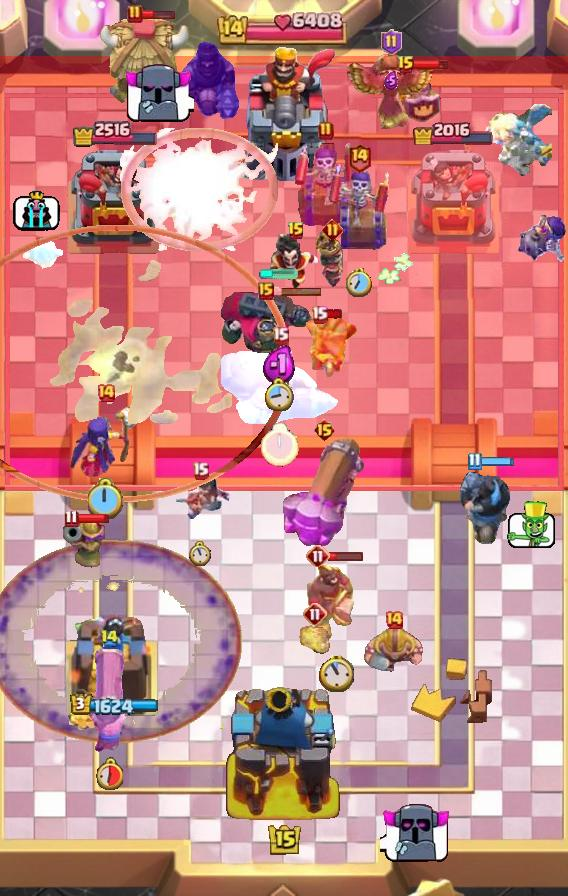axe: (68, 404, 144, 478)
barbarian-evolution: (120, 129, 278, 252)
bat: (21, 236, 63, 274)
battle-healer: (86, 649, 132, 753)
bomb-tower: (63, 515, 105, 583)
bomber-evolution: (314, 229, 350, 291)
clock: (217, 11, 351, 45)
electro-spirit: (262, 345, 298, 385), (384, 71, 398, 90)
elixir: (261, 423, 299, 467), (88, 478, 124, 519), (318, 654, 353, 692), (264, 377, 294, 411), (95, 757, 123, 790), (346, 267, 372, 296), (189, 541, 211, 567)
emote: (271, 287, 323, 298), (140, 8, 176, 20), (413, 59, 449, 71), (481, 456, 516, 468), (76, 512, 110, 524), (328, 551, 364, 562), (324, 308, 343, 320)
freeze: (307, 561, 365, 647)
furnace: (279, 436, 369, 550)
goblin-ball: (514, 214, 568, 264)
goblin-barrel: (301, 316, 359, 378)
goblin-giant: (363, 625, 425, 673)
golden-knight: (343, 53, 439, 131)
ice-spirit: (259, 268, 299, 280)
ice-spirit-evolution: (297, 625, 333, 657)
inferno-dragon: (180, 32, 242, 120), (457, 467, 513, 547)
inferno-tower: (219, 288, 339, 370)
king-tower: (223, 680, 345, 826), (230, 45, 338, 181)
lumberjack: (267, 234, 325, 298)
mini-pekka: (482, 100, 552, 182)
prince: (99, 16, 193, 106)
princess: (394, 65, 442, 125)
queen-tower: (62, 613, 165, 731), (64, 146, 164, 256), (403, 146, 503, 256)
rocket: (0, 540, 242, 744)
royal-ghost: (0, 225, 288, 503)
selected: (70, 120, 157, 149), (413, 119, 496, 145), (69, 692, 158, 715)
skeleton: (122, 62, 194, 126), (380, 800, 452, 864), (505, 501, 557, 551), (12, 189, 59, 231)
skeleton-dragon: (169, 474, 231, 526)
skeleton-king-bar: (328, 161, 390, 253), (295, 140, 357, 226)
text: (348, 142, 373, 173), (306, 544, 330, 568), (303, 602, 327, 626), (313, 418, 336, 442), (382, 29, 403, 55), (321, 219, 343, 240), (96, 383, 116, 403), (384, 610, 404, 630), (100, 629, 120, 648), (397, 55, 415, 75), (287, 221, 305, 241), (311, 304, 328, 323), (192, 461, 209, 480), (127, 4, 143, 24), (318, 121, 334, 141), (272, 327, 289, 345), (258, 282, 274, 300), (65, 509, 80, 527), (467, 453, 481, 471)
wizard: (217, 346, 343, 424)
